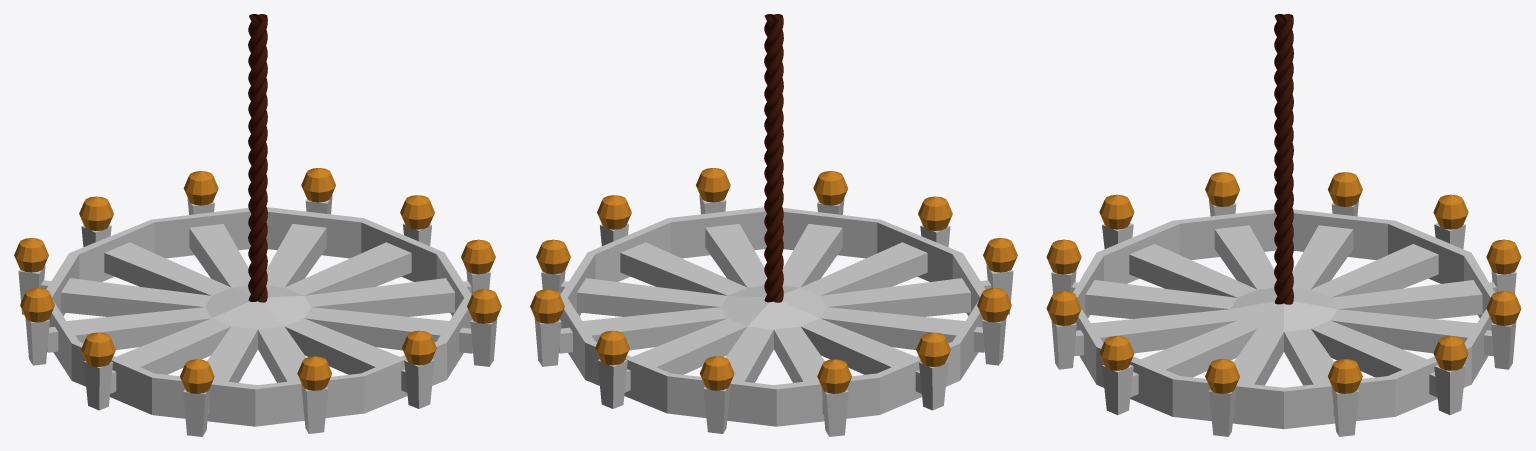
Rendered from chandelier.obj.
3 views of the same model, side by side, from view 1: azimuth 30°, elevation 25°; view 2: azimuth 150°, elevation 25°; view 3: azimuth 270°, elevation 25° (orthographic).
Parts seen in each view (by area): view 1: chandelier, Lightsource, Rope; view 2: chandelier, Lightsource, Rope; view 3: chandelier, Lightsource, Rope.
Boxes of the visible parts, x1,y1,x2,y2 form: chandelier: (18,194,497,436); Lightsource: (14,168,501,393); Rope: (248,14,267,302); chandelier: (534,194,1013,436); Lightsource: (530,168,1017,393); Rope: (764,14,783,302); chandelier: (1051,199,1516,436); Lightsource: (1046,172,1521,393); Rope: (1274,14,1293,304).
Size of the model in its own units: 8.91 by 6.65 by 8.86.
